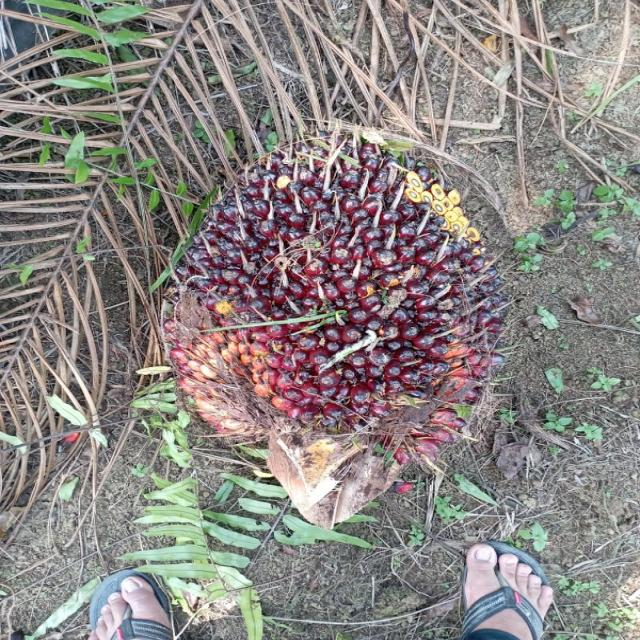fraksi 00: (168, 136, 495, 462)
